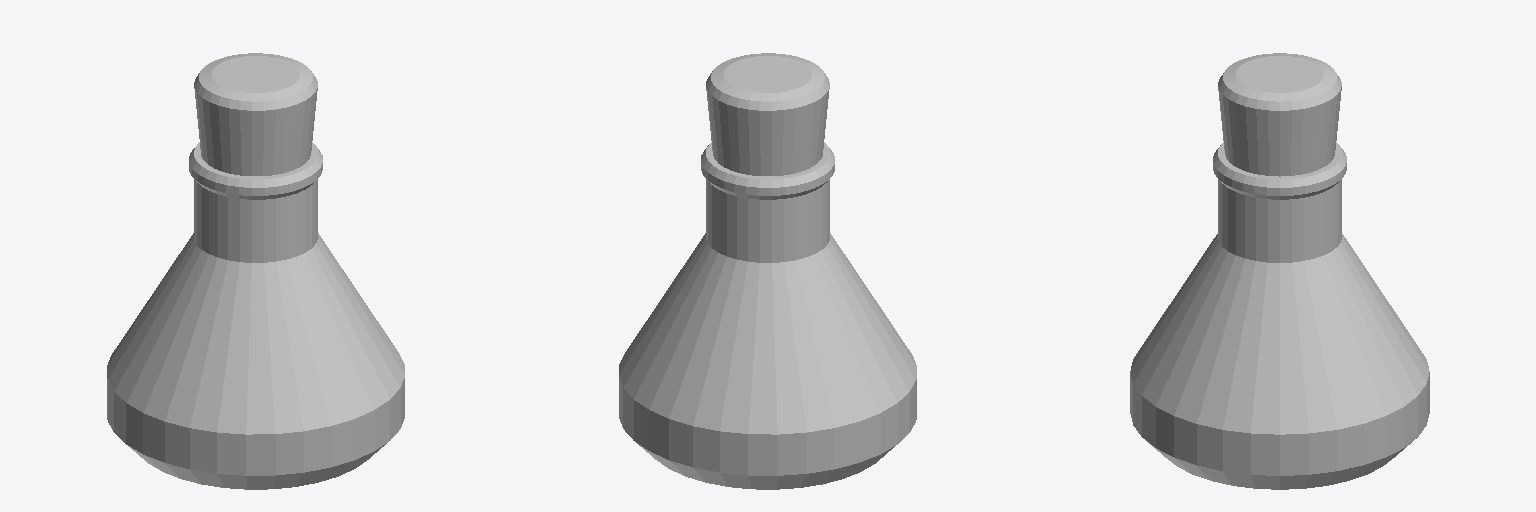
Rendered from super_potion.obj.
The picture shows the model from 3 angles: view 1: azimuth 30°, elevation 25°; view 2: azimuth 150°, elevation 25°; view 3: azimuth 270°, elevation 25°; orthographic projection.
Parts seen in each view (by area): view 1: Cylindre.001, Cylindre; view 2: Cylindre.001, Cylindre; view 3: Cylindre.001, Cylindre.
Part boxes in pixels (x1,y1,x2,y2): Cylindre.001: (107, 142, 404, 489); Cylindre: (194, 53, 317, 175); Cylindre.001: (619, 142, 916, 489); Cylindre: (706, 53, 829, 175); Cylindre.001: (1130, 142, 1429, 489); Cylindre: (1218, 53, 1341, 176).
Size of the model in its own units: 0.06 by 0.0803 by 0.06.